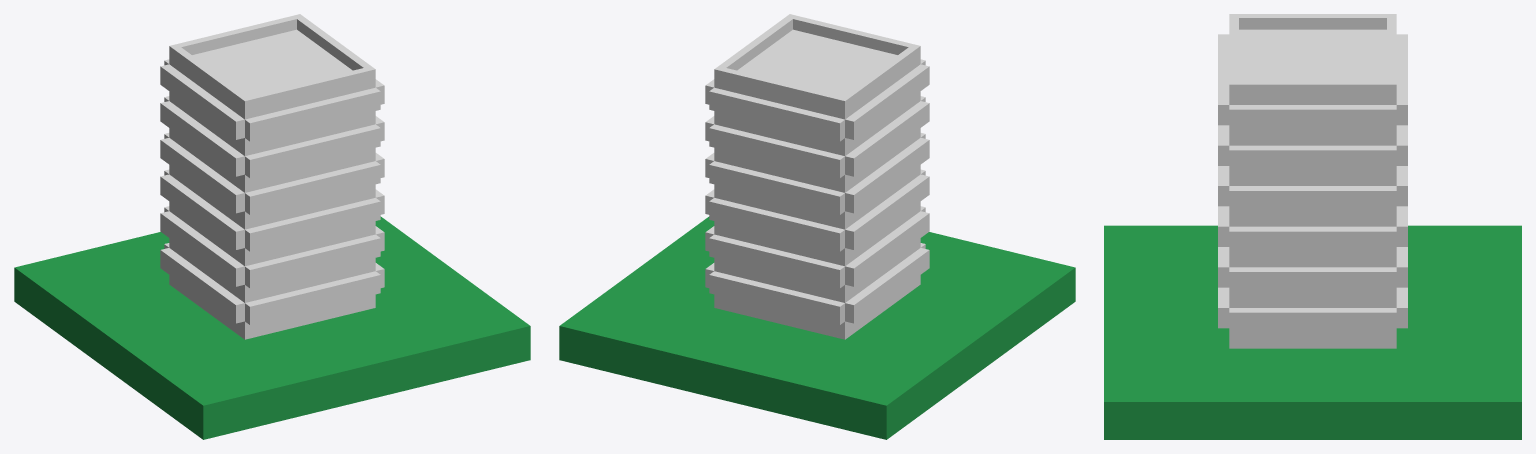
File: City.fbx
3 renders of one model, left to right at view 1: azimuth 30°, elevation 25°; view 2: azimuth 150°, elevation 25°; view 3: azimuth 270°, elevation 25°, orthographic. The views are drawn at different scales.
Parts seen in each view (by area): view 1: Building, Floor; view 2: Building, Floor; view 3: Floor, Building.
Part boxes in pixels (x1,y1,x2,y2): Building: (160,14,384,339); Floor: (14,216,530,439); Building: (705,14,929,339); Floor: (559,216,1075,439); Floor: (1104,225,1521,439); Building: (1218,14,1407,348).
Size of the model in its own units: 100 by 79.84 by 100.
